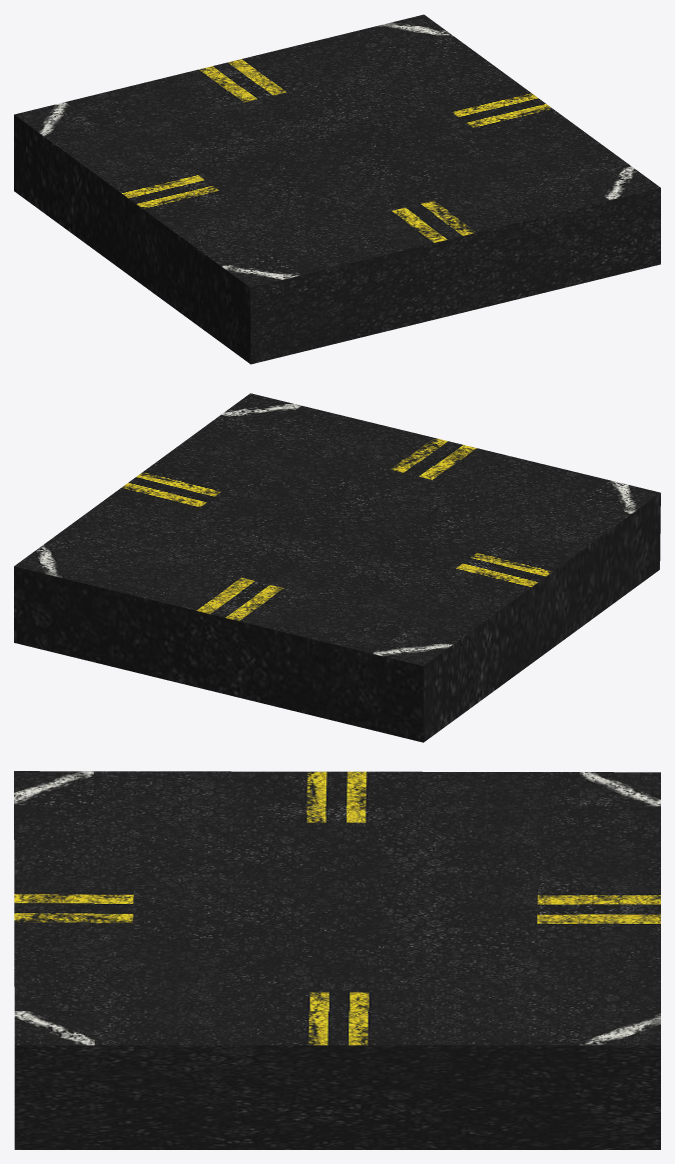
Rendered from Pavement+.fbx.
The picture shows the model from 3 angles, top to bottom: view 1: azimuth 30°, elevation 25°; view 2: azimuth 150°, elevation 25°; view 3: azimuth 270°, elevation 25°; orthographic projection. The views are drawn at different scales.
Parts seen in each view (by area): view 1: Pavement+; view 2: Pavement+; view 3: Pavement+.
Part boxes in pixels (x1=…): Pavement+: x1=14, y1=14, x2=660, y2=364; Pavement+: x1=14, y1=393, x2=660, y2=742; Pavement+: x1=14, y1=771, x2=660, y2=1149.
Size of the model in its own units: 326 by 58.33 by 325.
1 material, 1 textured.
